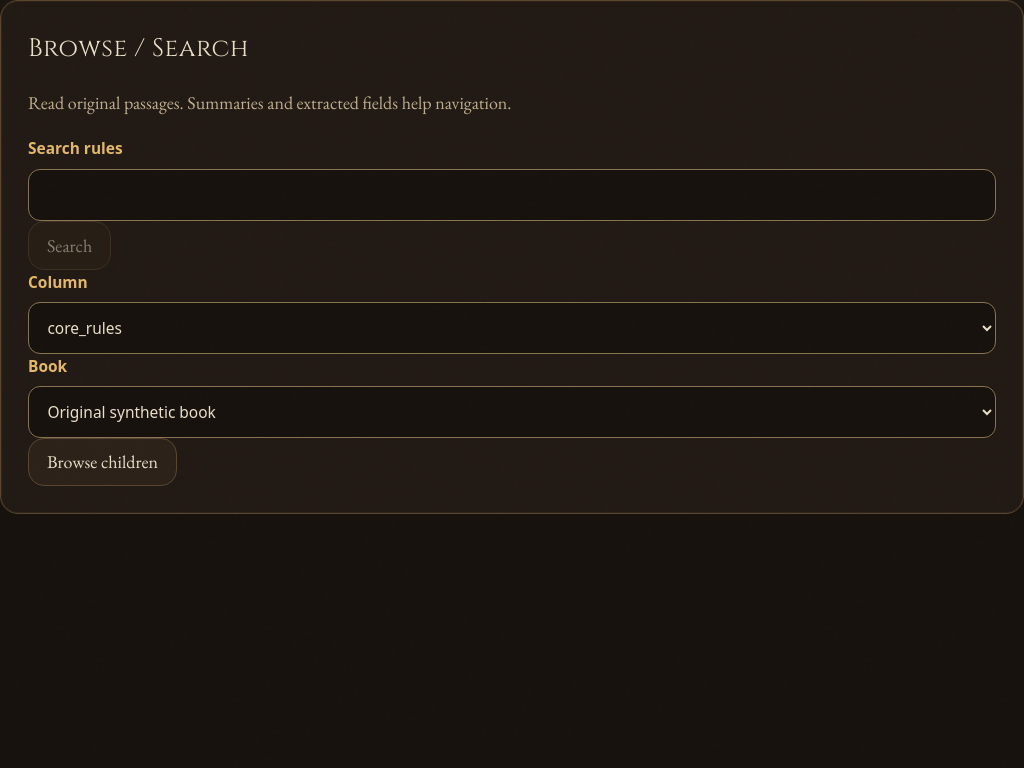
Test: browses direct children on demand and displays a stale cursor error without inventing results
Click the button "Browse children" at (102, 462), box [28,438,177,486]
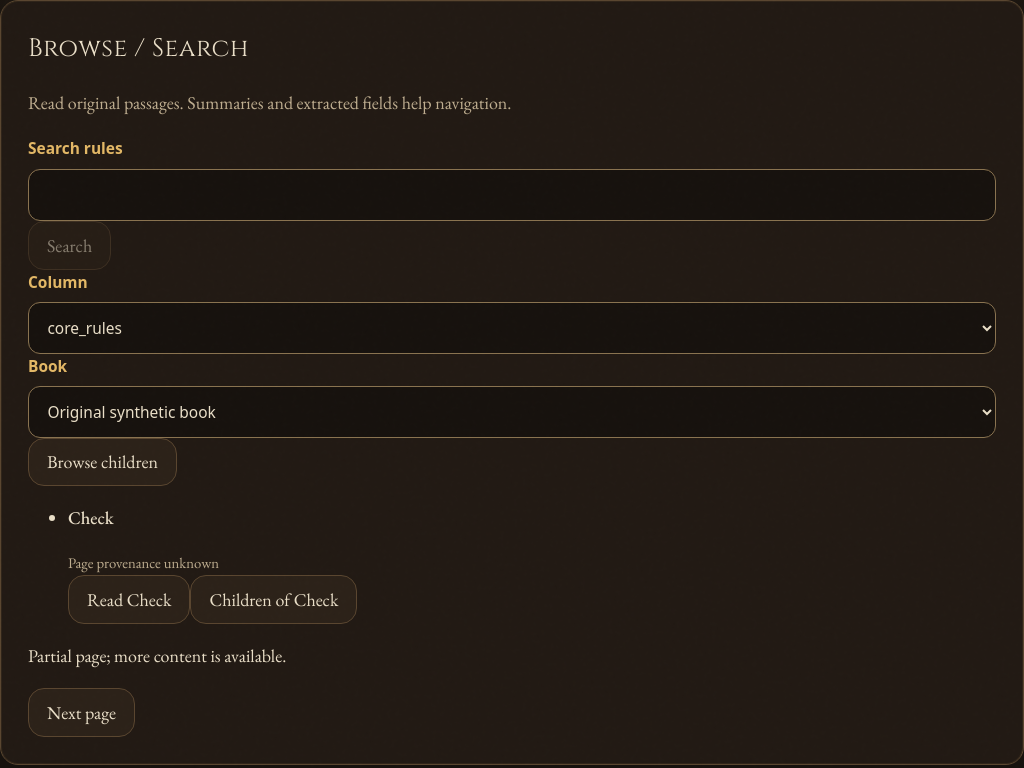
Expected: the button "Read Check" is shown, [68,575,190,624]
Click the button "Next page" at (82, 713), box [28,688,135,737]
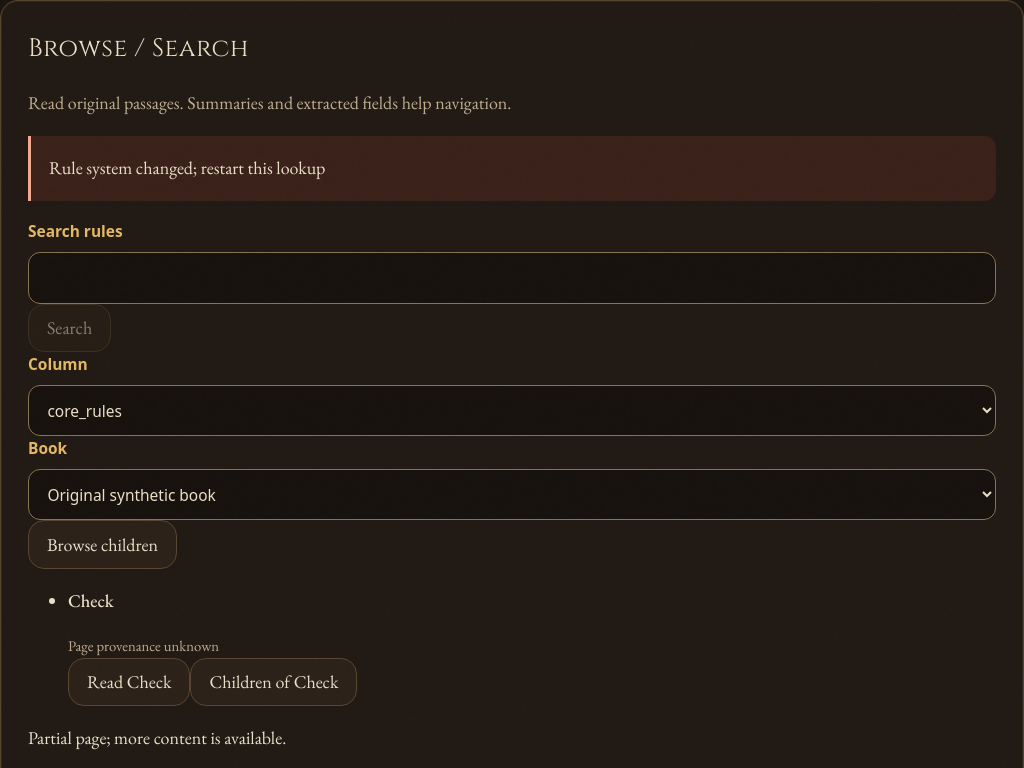
Expected: the button "Read Check" is shown, [68,658,190,706]
Expected: the message shows "Rule system changed", [49,156,326,179]
